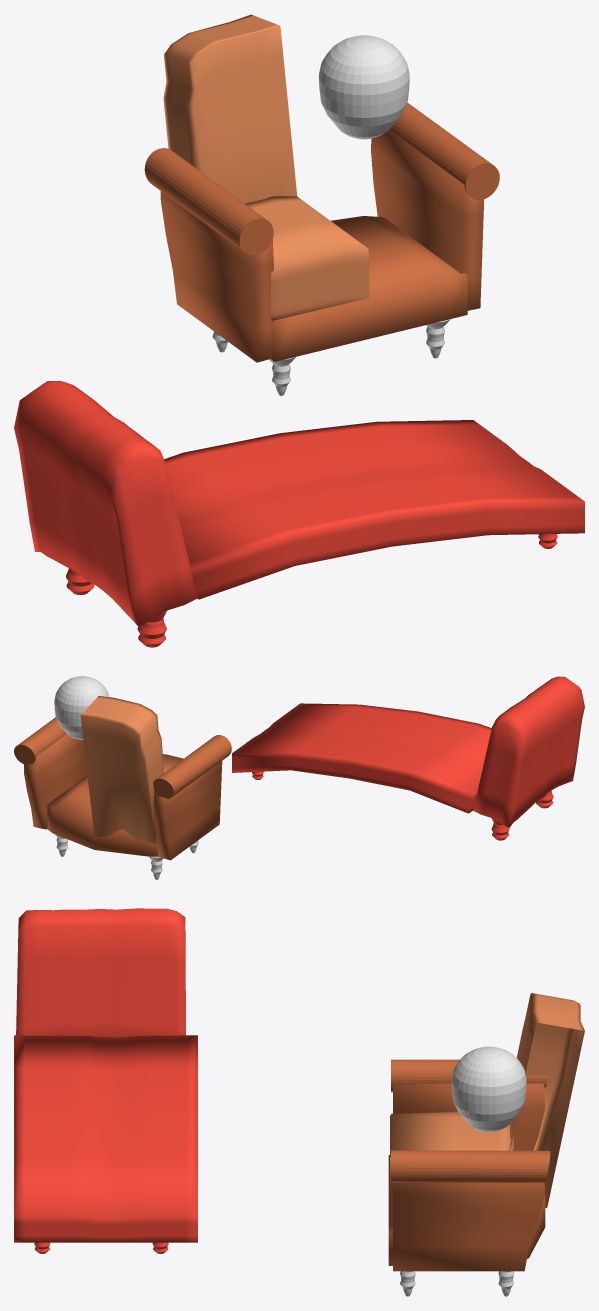
The model's file is chair1.glb.
3 renders of one model, top to bottom at view 1: azimuth 30°, elevation 25°; view 2: azimuth 150°, elevation 25°; view 3: azimuth 270°, elevation 25°, orthographic. The views are drawn at different scales.
Parts seen in each view (by area): view 1: Patients Chair, Bottom, Back, Sphere; view 2: Patients Chair, Bottom, Back, Sphere; view 3: Patients Chair, Bottom, Back, Sphere.
Boxes of the visible parts, x1,y1,x2,y2 form: Patients Chair: (14, 381, 584, 647); Bottom: (144, 102, 499, 395); Back: (163, 14, 369, 321); Sphere: (319, 35, 409, 139); Patients Chair: (232, 676, 584, 840); Bottom: (14, 717, 231, 879); Back: (80, 696, 183, 843); Sphere: (54, 676, 109, 739); Patients Chair: (14, 908, 197, 1253); Bottom: (388, 1059, 550, 1296); Back: (390, 993, 584, 1207); Sphere: (451, 1046, 526, 1132).
Size of the model in its own units: 6.34 by 2.93 by 6.21.
